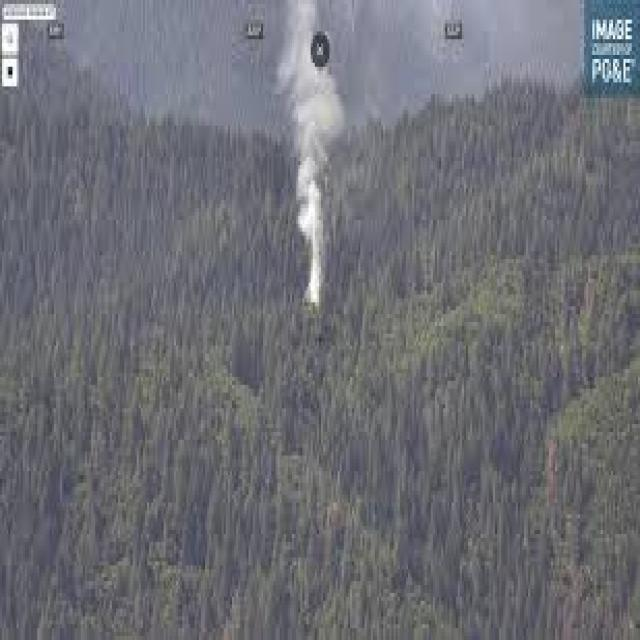Smoke: (279, 72, 354, 326)
